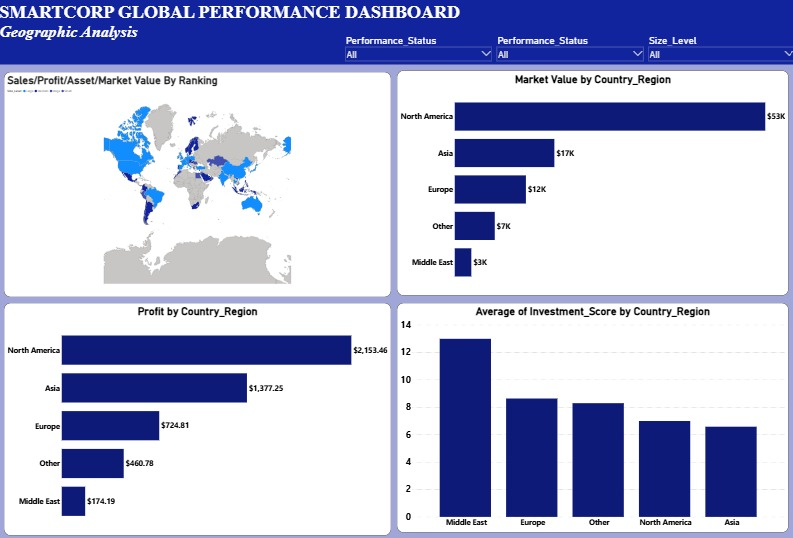

The dashboard page shown, as its layout file describes it:
{"tool":"powerbi","page":{"name":"Geographic Analysis","canvas":[3550,2400],"ordinal":2},"visuals":[{"type":"textbox","box":[0,0,3550,286.7],"z":0},{"type":"slicer","fields":{"Values":["Sheet11.Performance_Status"]},"box":[1536,144,672,192],"z":1000},{"type":"slicer","fields":{"Values":["Sheet11.Performance_Status"]},"box":[2208,144,672,192],"z":2000},{"type":"slicer","fields":{"Values":["Sheet11.Size_Level"]},"box":[2878,144,672,192],"z":3000},{"type":"clusteredBarChart","title":"Market Value by Country_Region","fields":{"Category":["Sheet11.Country_Region"],"Y":["Sum(Forbes Companies.Market Value_$B)"]},"box":[1773.3,313.3,1740,1000],"z":4000},{"type":"clusteredBarChart","title":"Profit by Country_Region","fields":{"Category":["Sheet11.Country_Region"],"Y":["Sum(Forbes Companies.Profit_$B)"]},"box":[26.7,1346.7,1720,1033.3],"z":5000},{"type":"columnChart","fields":{"Category":["Forbes Companies.Country_Region"],"Y":["Avg(Forbes Companies.Investment_Score)"]},"box":[1773.3,1346.7,1740,1020],"z":7000},{"type":"shapeMap","title":"Sales/Profit/Asset/Market Value By Ranking","fields":{"Category":["Forbes Companies.Headquarters"],"Value":["Sum(Forbes Companies.Profit_$B)"],"Series":["Forbes Companies.Size_Level"]},"box":[26.7,320,1720,1000],"z":8000}]}

Visuals, with their boxes in screenshot pixels (x1, y1, x2, y2), scaled from the page's 3550x2400 canvas onto the 793x538 screenshot:
textbox: [x1=0, y1=0, x2=792, y2=64]
slicer - Sheet11.Performance_Status: [x1=343, y1=32, x2=493, y2=75]
slicer - Sheet11.Performance_Status: [x1=493, y1=32, x2=643, y2=75]
slicer - Sheet11.Size_Level: [x1=643, y1=32, x2=792, y2=75]
"Market Value by Country_Region" clusteredBarChart: [x1=396, y1=70, x2=785, y2=294]
"Profit by Country_Region" clusteredBarChart: [x1=6, y1=302, x2=390, y2=534]
columnChart - Forbes Companies.Country_Region x Avg(Forbes Companies.Investment_Score): [x1=396, y1=302, x2=785, y2=531]
"Sales/Profit/Asset/Market Value By Ranking" shapeMap: [x1=6, y1=72, x2=390, y2=296]
